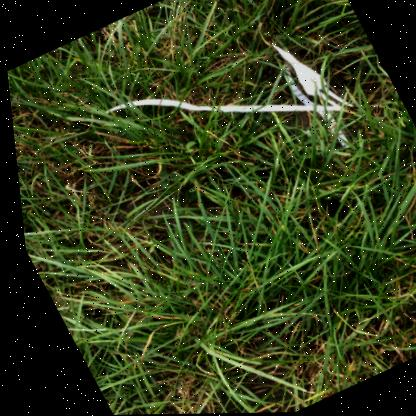Plastic: (283, 64, 345, 148), (271, 45, 350, 107), (103, 98, 338, 113)
